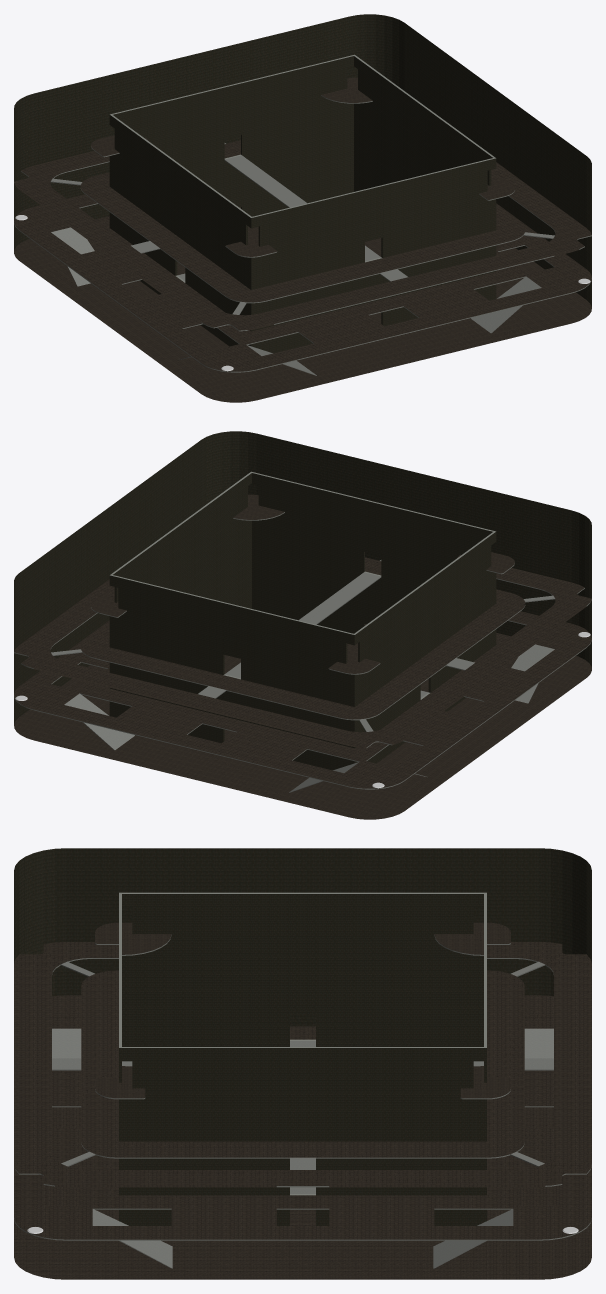
Rendered from mapInProgress.obj.
3 renders of one model, top to bottom at view 1: azimuth 30°, elevation 25°; view 2: azimuth 150°, elevation 25°; view 3: azimuth 270°, elevation 25°, orthographic. The views are drawn at different scales.
Parts seen in each view (by area): view 1: Map_Plane; view 2: Map_Plane; view 3: Map_Plane.
Boxes of the visible parts, x1=… form: Map_Plane: x1=14, y1=14, x2=591, y2=402; Map_Plane: x1=14, y1=431, x2=591, y2=819; Map_Plane: x1=14, y1=848, x2=591, y2=1279.
Size of the model in its own units: 50 by 17.88 by 50.
